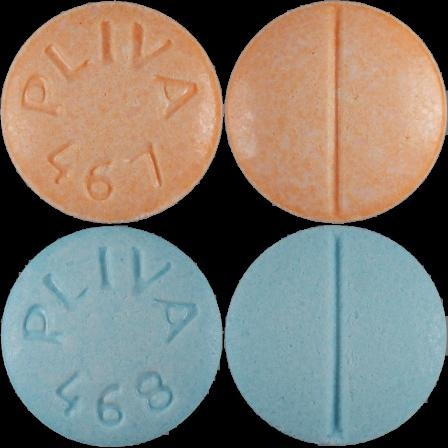50111-467: (0, 0, 224, 224)
